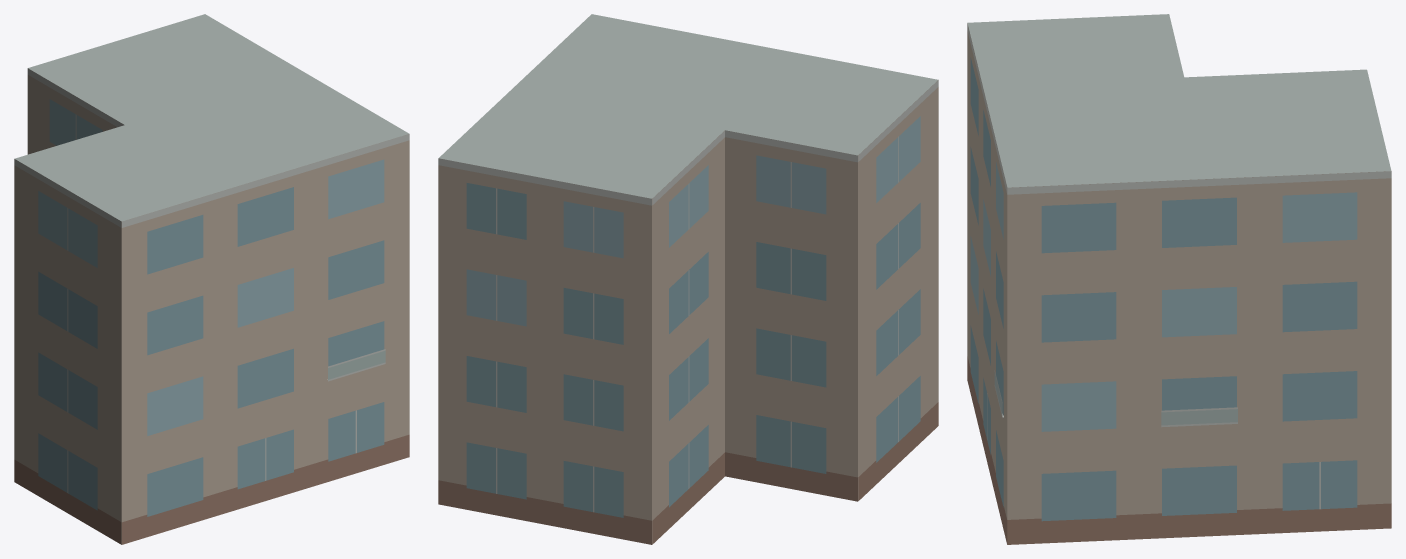
Rendered from residential-a6bc34e6-e679-45ce-83e0-e06ecd53b660.glb.
3 renders of one model, left to right at view 1: azimuth 30°, elevation 25°; view 2: azimuth 150°, elevation 25°; view 3: azimuth 270°, elevation 25°, orthographic. The views are drawn at different scales.
Visible parts, largest first — view 1: residential-a6bc34e6-e679-45ce-83e0-e06ecd53b660.tmp; view 2: residential-a6bc34e6-e679-45ce-83e0-e06ecd53b660.tmp; view 3: residential-a6bc34e6-e679-45ce-83e0-e06ecd53b660.tmp.
Part boxes in pixels (x1,y1,x2,y2): residential-a6bc34e6-e679-45ce-83e0-e06ecd53b660.tmp: (14,14,409,544); residential-a6bc34e6-e679-45ce-83e0-e06ecd53b660.tmp: (438,14,938,544); residential-a6bc34e6-e679-45ce-83e0-e06ecd53b660.tmp: (967,14,1391,544).
Size of the model in its own units: 12.73 by 12.2 by 13.14.
